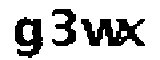3: (47, 3, 79, 51)
g: (9, 14, 44, 59)
w: (79, 14, 121, 49)
x: (120, 17, 149, 48)
